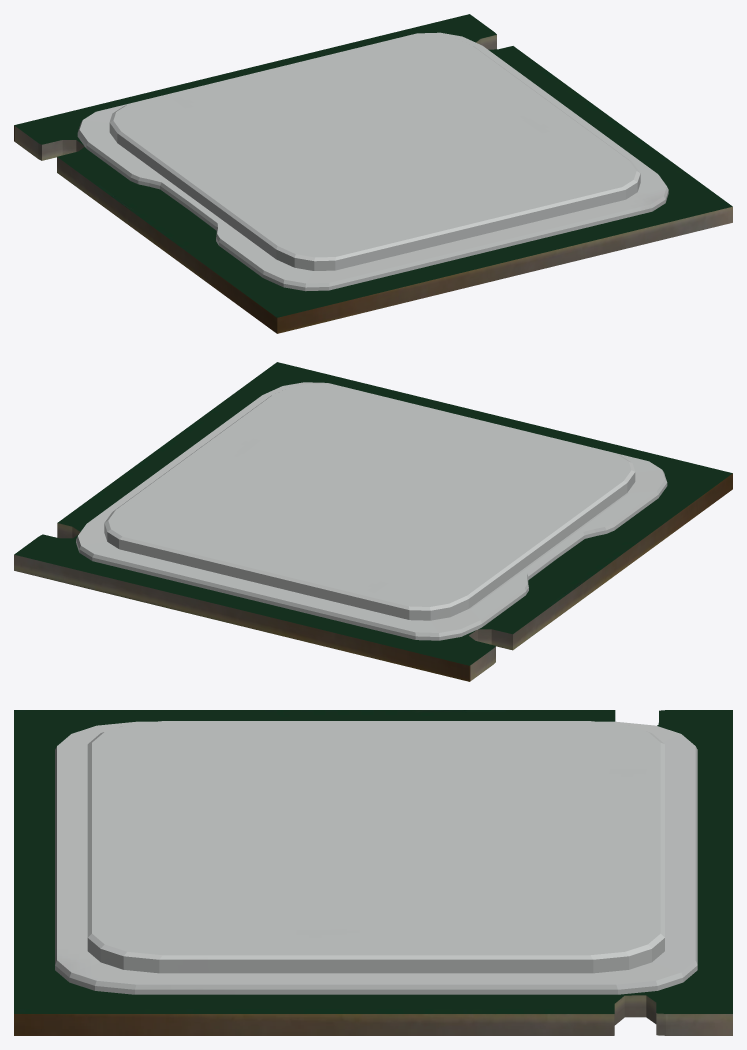
File: cpu.glb
3 views of the same model, one above another, from view 1: azimuth 30°, elevation 25°; view 2: azimuth 150°, elevation 25°; view 3: azimuth 270°, elevation 25° (orthographic). The views are drawn at different scales.
Visible parts, largest first — view 1: Object_3, Object_2; view 2: Object_3, Object_2; view 3: Object_3, Object_2.
Part boxes in pixels (x1,y1,x2,y2): Object_3: [77, 32, 668, 291]; Object_2: [14, 14, 732, 333]; Object_3: [76, 382, 667, 640]; Object_2: [14, 362, 732, 681]; Object_3: [55, 721, 697, 994]; Object_2: [14, 710, 732, 1035].
Size of the model in its own units: 3.16 by 0.2308 by 3.16.
Materials: 2 (2 with a texture image).
